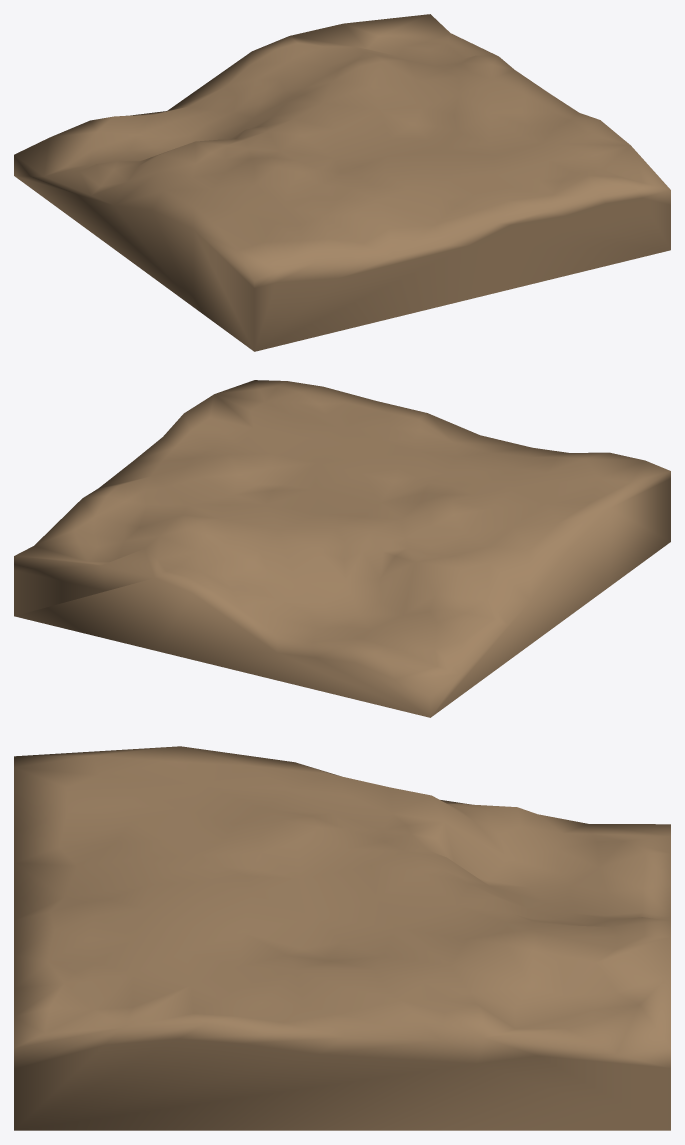
The model's file is kumm.fbx.
3 views of the same model, one above another, from view 1: azimuth 30°, elevation 25°; view 2: azimuth 150°, elevation 25°; view 3: azimuth 270°, elevation 25° (orthographic). The views are drawn at different scales.
Parts seen in each view (by area): view 1: land_97.064; view 2: land_97.064; view 3: land_97.064.
Boxes of the visible parts, x1,y1,x2,y2 form: land_97.064: (14, 14, 670, 351); land_97.064: (14, 380, 670, 717); land_97.064: (14, 746, 670, 1130).
Bounding box in the file's own units: 1500 × 287 × 1500.
